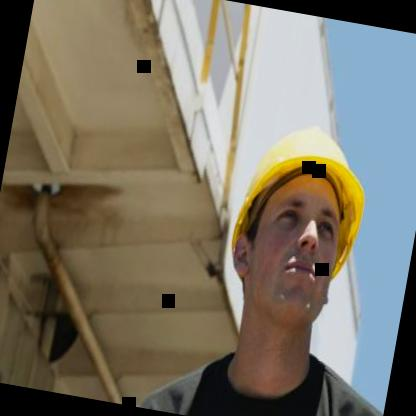helmet: (185, 67, 400, 389)
